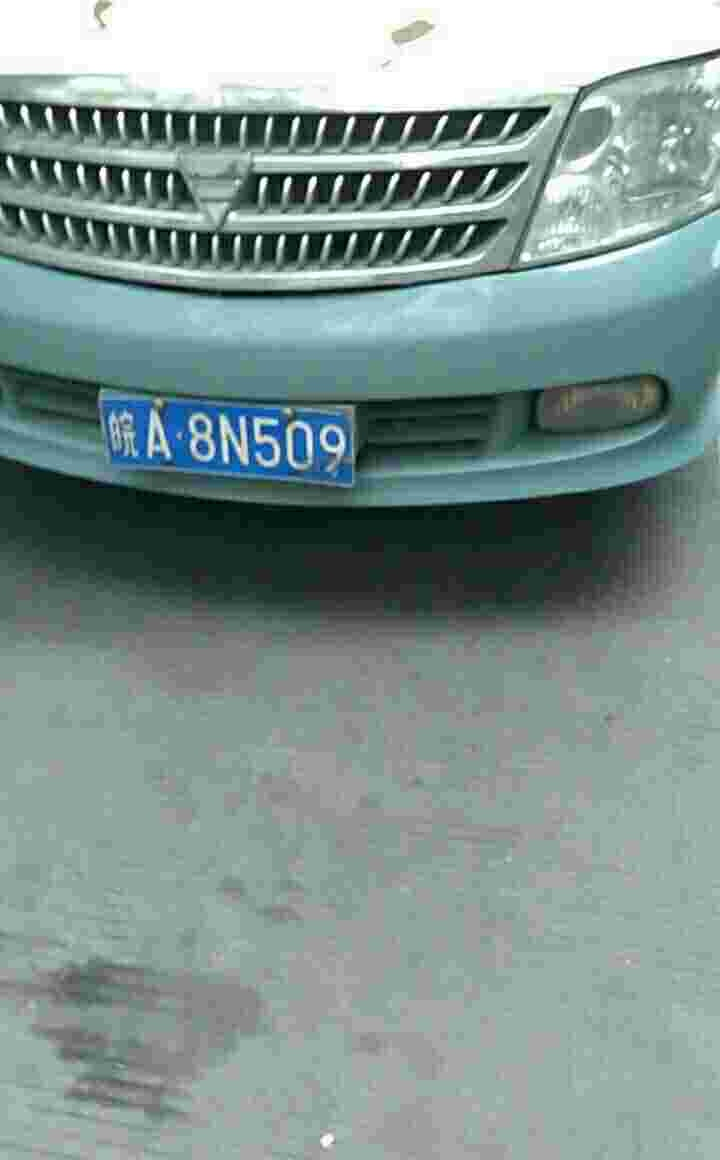license_plate: (98, 393, 344, 483)
